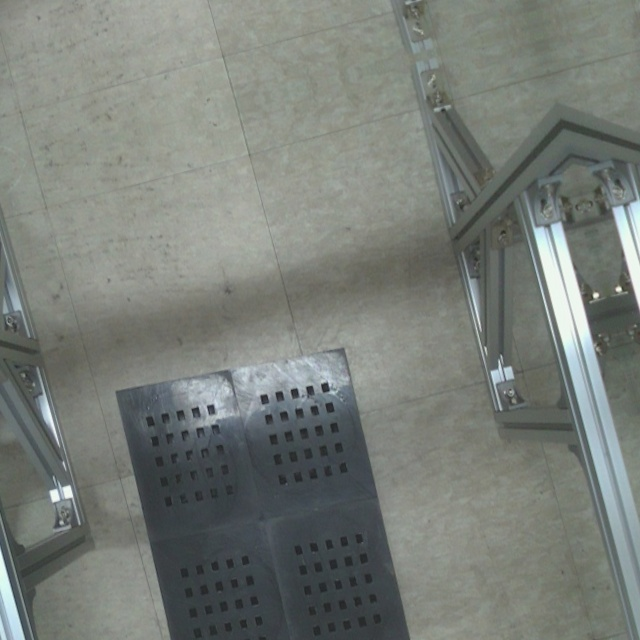pallet: (92, 320, 434, 640)
